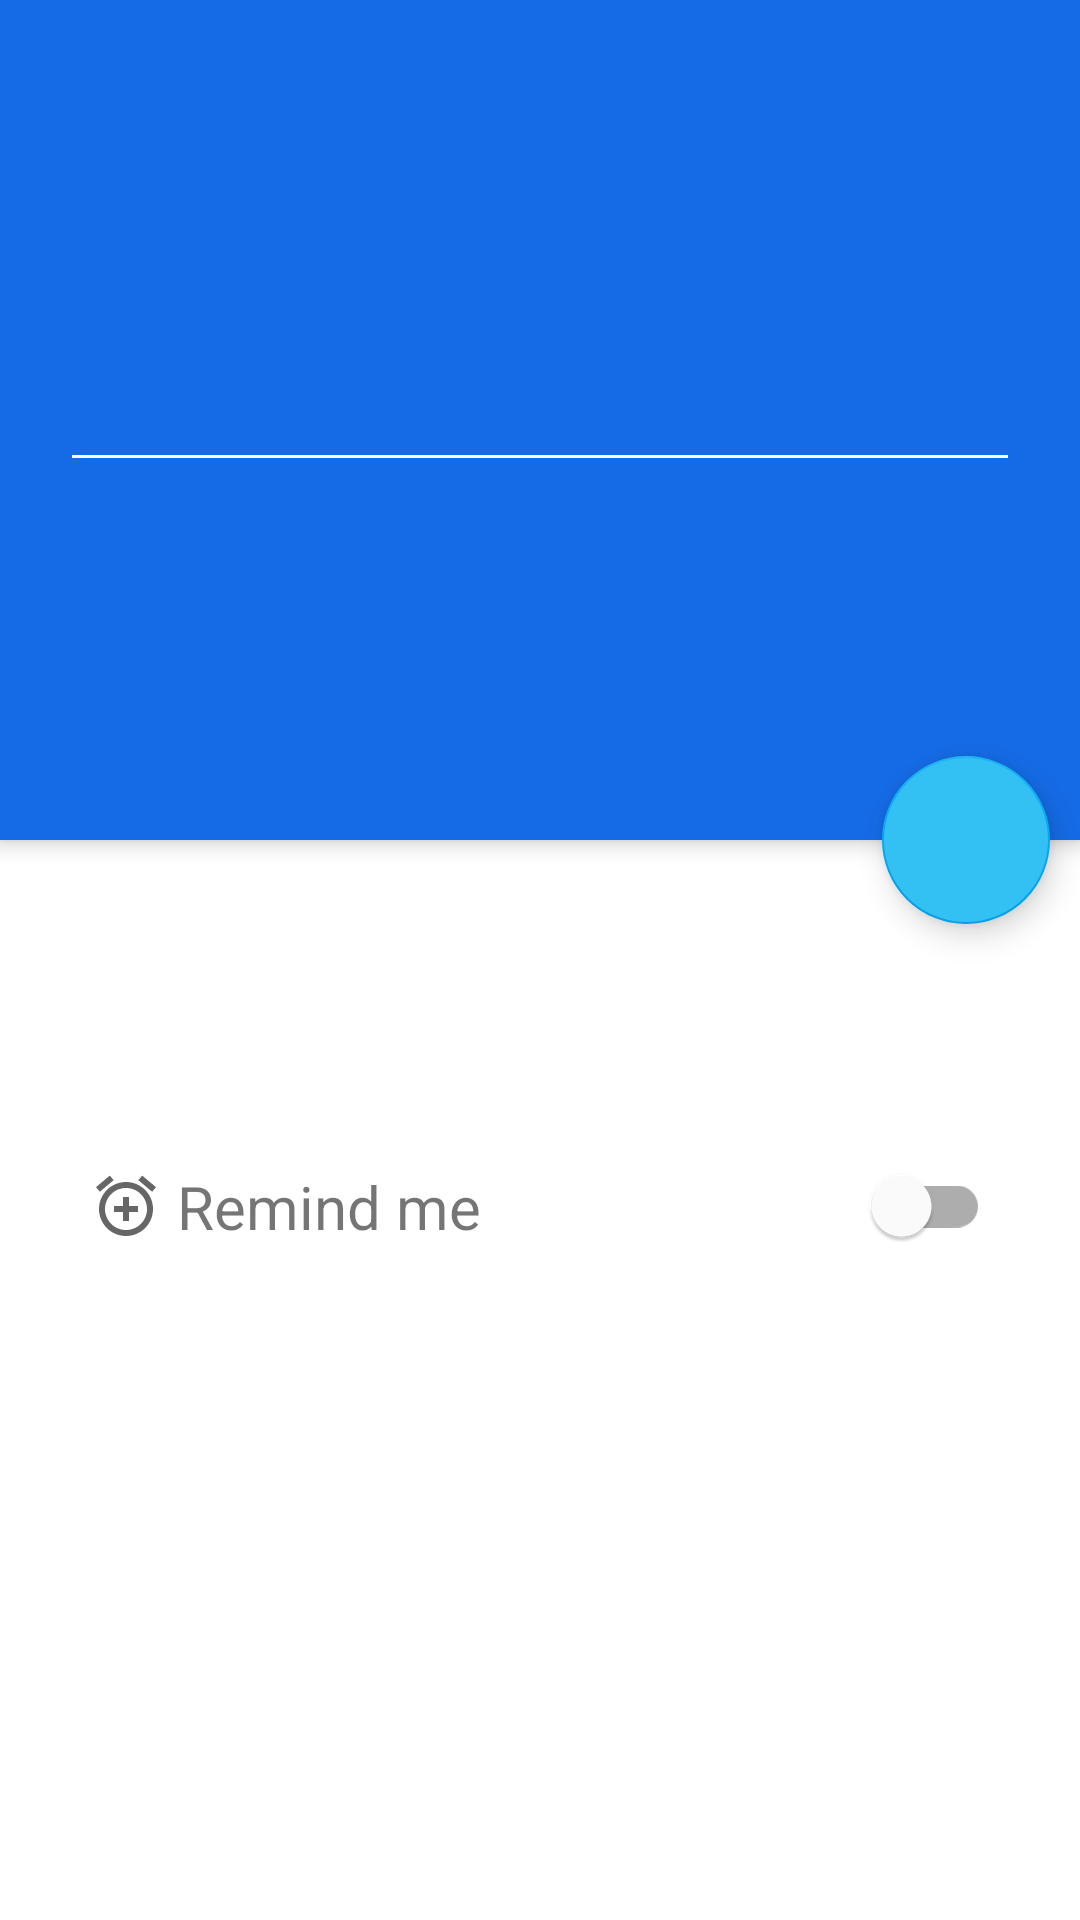

Point at icon controls on the screen. Image size 1080x1920, points as (x=x, y=y).
alarm: (x=126, y=1206)
